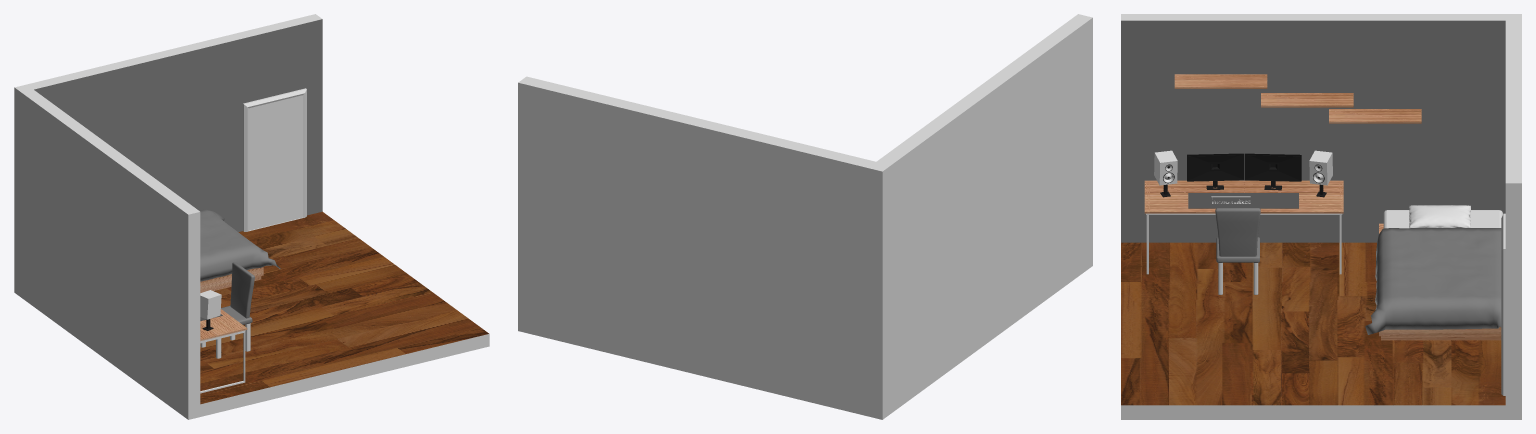
File: rum_uden_items.glb
3 renders of one model, left to right at view 1: azimuth 30°, elevation 25°; view 2: azimuth 150°, elevation 25°; view 3: azimuth 270°, elevation 25°, orthographic. The views are drawn at different scales.
Parts seen in each view (by area): view 1: Cube.030, Cube.025, Plane.002, Plane.003, Cube.026, Cube.020, Cube.029; view 2: Cube.030; view 3: Cube.030, Plane.002, Cube.026, Plane.003, Cube.024, Cube.023, Cube.022, Cube.029, Cube.027, Cube.016, Cube.018, Cube.017 (+4 smaller).
Boxes of the visible parts, <box> form: Cube.030: <box>14,14,489,419</box>; Cube.025: <box>243,88,306,231</box>; Plane.002: <box>199,209,280,281</box>; Plane.003: <box>200,262,254,358</box>; Cube.026: <box>200,309,247,393</box>; Cube.020: <box>200,290,221,330</box>; Cube.029: <box>200,267,263,292</box>; Cube.030: <box>518,14,1092,419</box>; Cube.030: <box>1121,14,1521,419</box>; Plane.002: <box>1365,228,1501,334</box>; Cube.026: <box>1144,180,1343,274</box>; Plane.003: <box>1215,208,1260,294</box>; Cube.024: <box>1244,153,1301,190</box>; Cube.023: <box>1188,193,1298,208</box>; Cube.022: <box>1187,153,1243,189</box>; Cube.029: <box>1379,223,1501,340</box>; Cube.027: <box>1409,205,1470,228</box>; Cube.016: <box>1174,74,1267,88</box>; Cube.018: <box>1261,93,1353,107</box>; Cube.017: <box>1329,109,1421,123</box>.
Size of the model in its own units: 8.66 by 5.64 by 8.66.
Materials: 10 (2 with a texture image).
